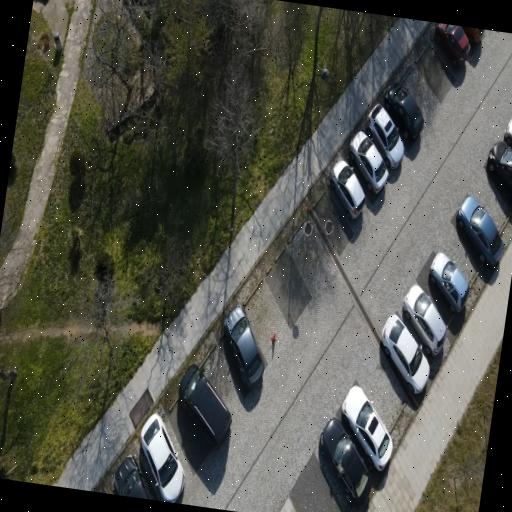harvester: (320, 418, 370, 506), (341, 386, 392, 470), (178, 365, 230, 447), (140, 413, 183, 502), (381, 315, 428, 394), (223, 305, 263, 388), (456, 196, 503, 265), (402, 285, 445, 356), (364, 104, 403, 168), (348, 131, 387, 193), (429, 252, 468, 312), (383, 83, 423, 139), (330, 161, 364, 218), (113, 456, 151, 499), (433, 23, 469, 68), (486, 141, 511, 201), (461, 26, 483, 43), (503, 119, 511, 147)
